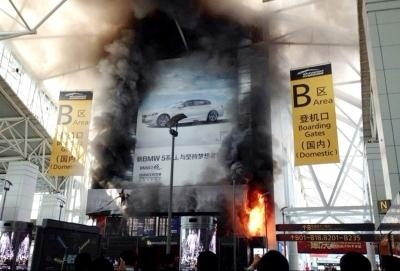fire: (241, 189, 268, 236)
